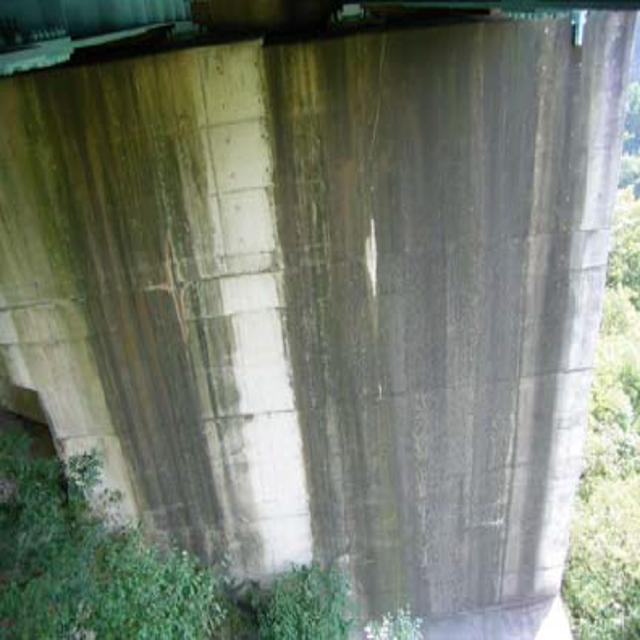leakage: (262, 24, 548, 610), (20, 61, 233, 593)
